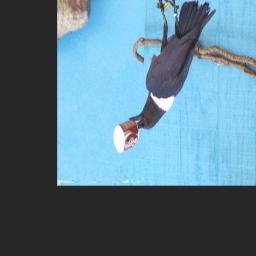Crow: (127, 0, 217, 132)
